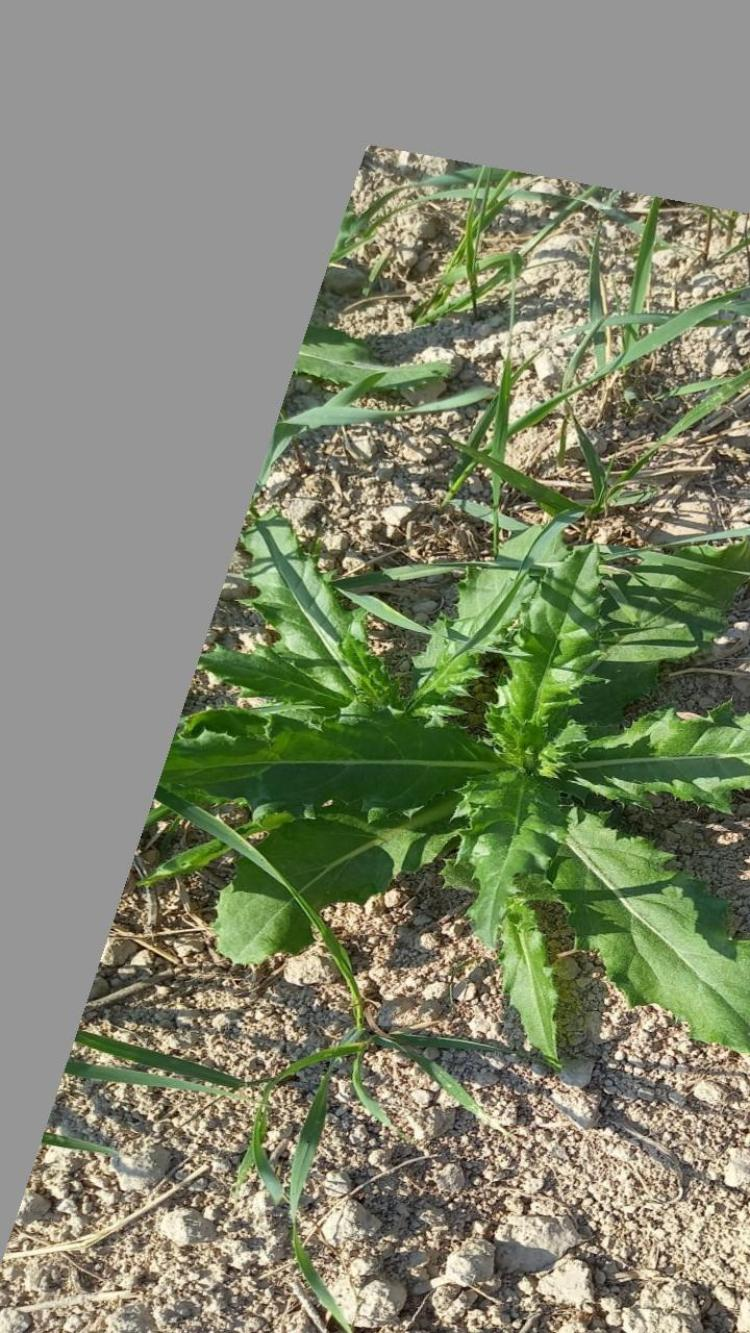osot: (141, 504, 750, 1085)
